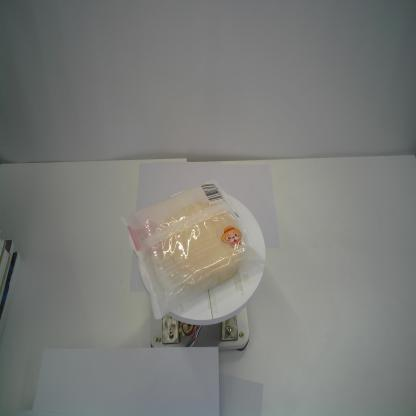Dessert: (120, 180, 262, 323)
